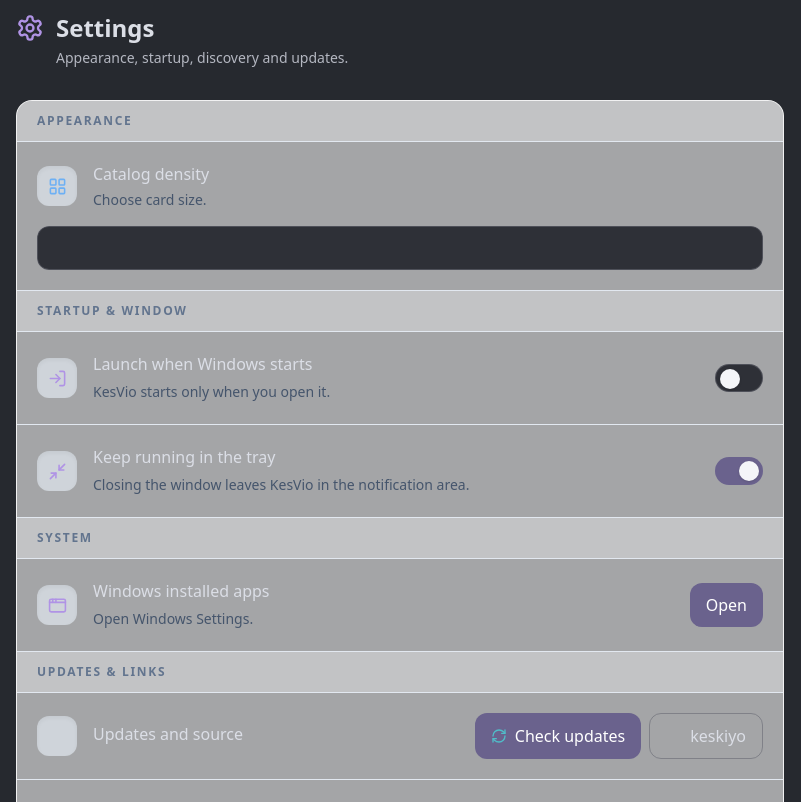
Scenario: SettingsPage › turns the tray behaviour off through the backend and reflects the answer
Step 1. Click the switch named "Keep running in the tray when the window is closed" → (739, 471), box [715,457,763,485]
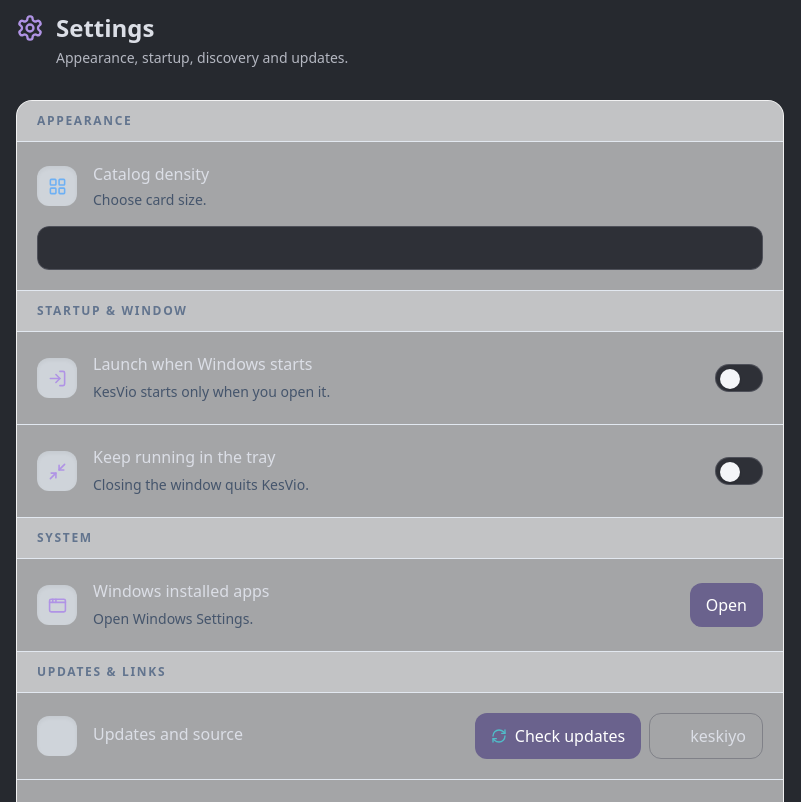
Expected: the switch named "Keep running in the tray when the window is closed" is not checked, [715,457,763,485]
Expected: the text "Closing the window quits KesVio." is shown, [93,475,309,494]
